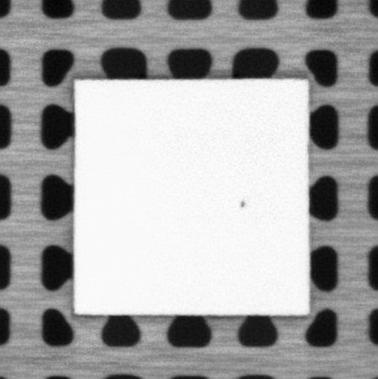DIE_INK: (237, 197, 248, 210)
